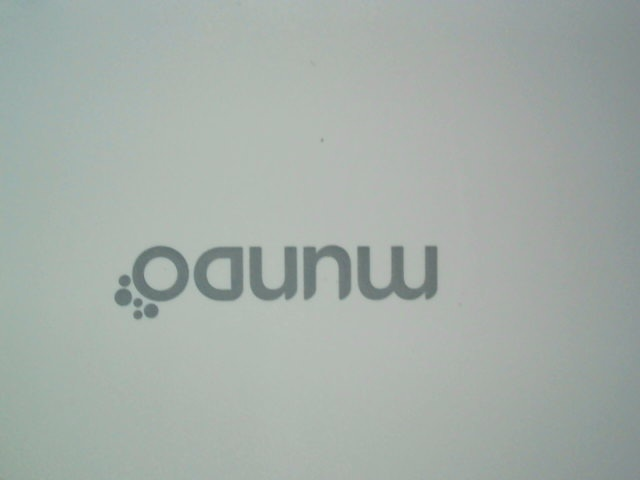BI_MUNDO: (97, 229, 449, 324)
